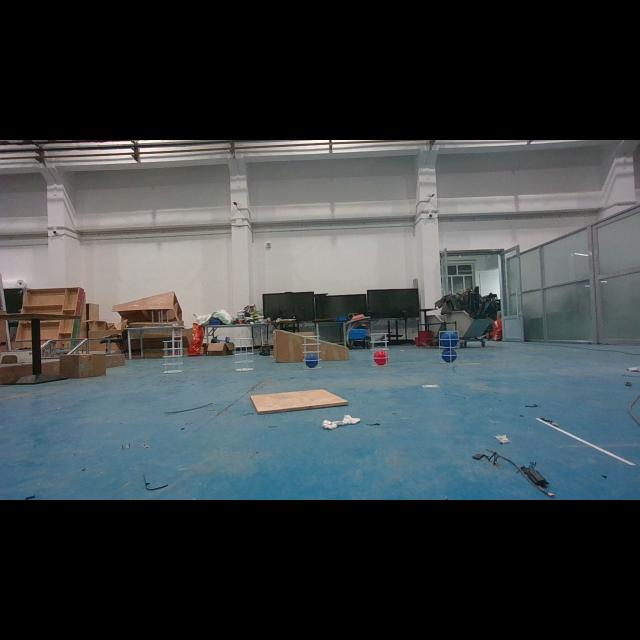B: (439, 332, 458, 348), (442, 350, 461, 362), (303, 355, 321, 367)
R: (372, 352, 390, 364)
S: (160, 338, 188, 376), (232, 335, 258, 375), (437, 328, 463, 367), (300, 334, 324, 372), (369, 330, 391, 370)
